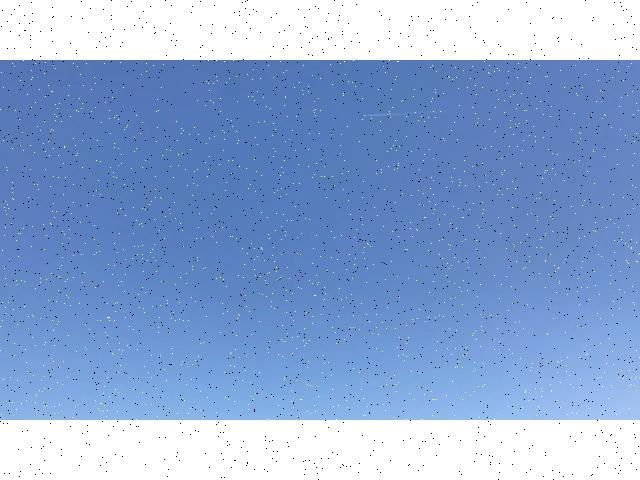Anti-Drone: (260, 272, 292, 288)
